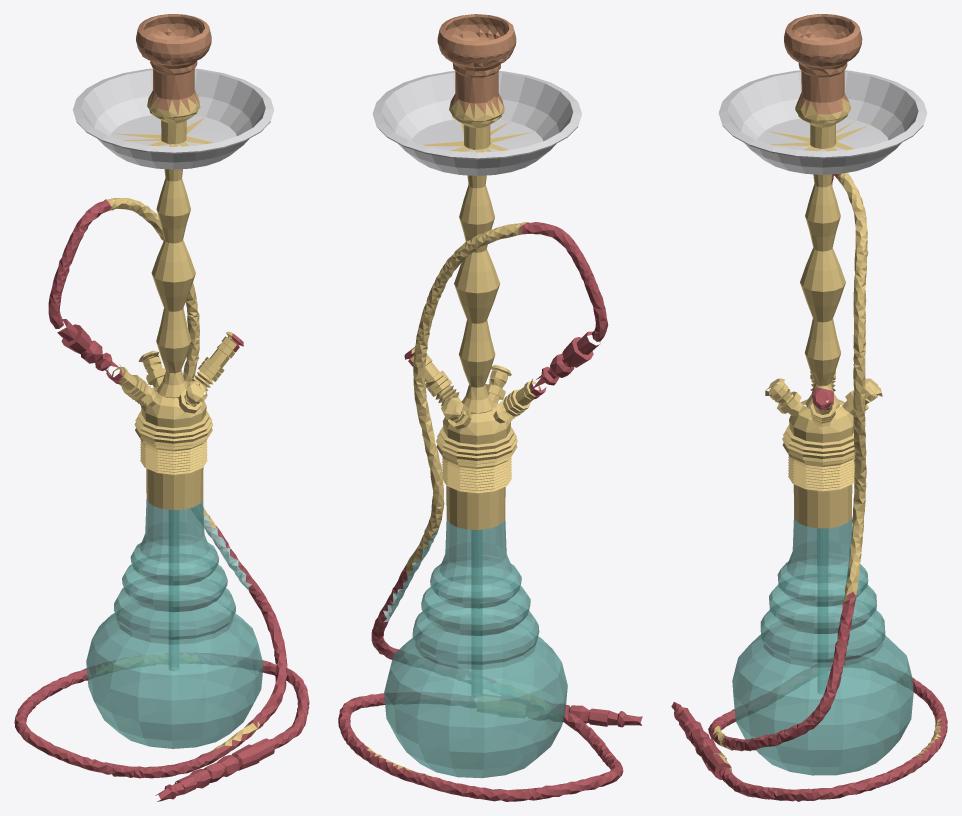
Rendered from hookah.glb.
The picture shows the model from 3 angles, left to right: view 1: azimuth 30°, elevation 25°; view 2: azimuth 150°, elevation 25°; view 3: azimuth 270°, elevation 25°; orthographic projection. The views are drawn at different scales.
Visible parts, largest first — view 1: glass, brass, hose, tray, clay; view 2: glass, brass, tray, hose, clay; view 3: glass, brass, tray, hose, clay.
Boxes of the visible parts, x1,y1,x2,y2 form: glass: (86, 499, 263, 748); brass: (90, 91, 267, 755); hose: (14, 199, 309, 801); tray: (73, 68, 273, 169); clay: (136, 14, 211, 115); glass: (383, 517, 567, 778); brass: (367, 98, 558, 778); tray: (372, 71, 581, 175); hose: (338, 222, 642, 801); clay: (437, 14, 516, 119); glass: (724, 516, 913, 775); brass: (713, 94, 941, 772); tray: (718, 70, 927, 174); hose: (671, 174, 947, 801); clay: (784, 14, 862, 116).
Size of the model in its own units: 0.3391 by 0.85 by 0.2912.
